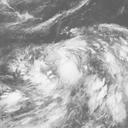cyclone: (41, 43, 98, 103)
